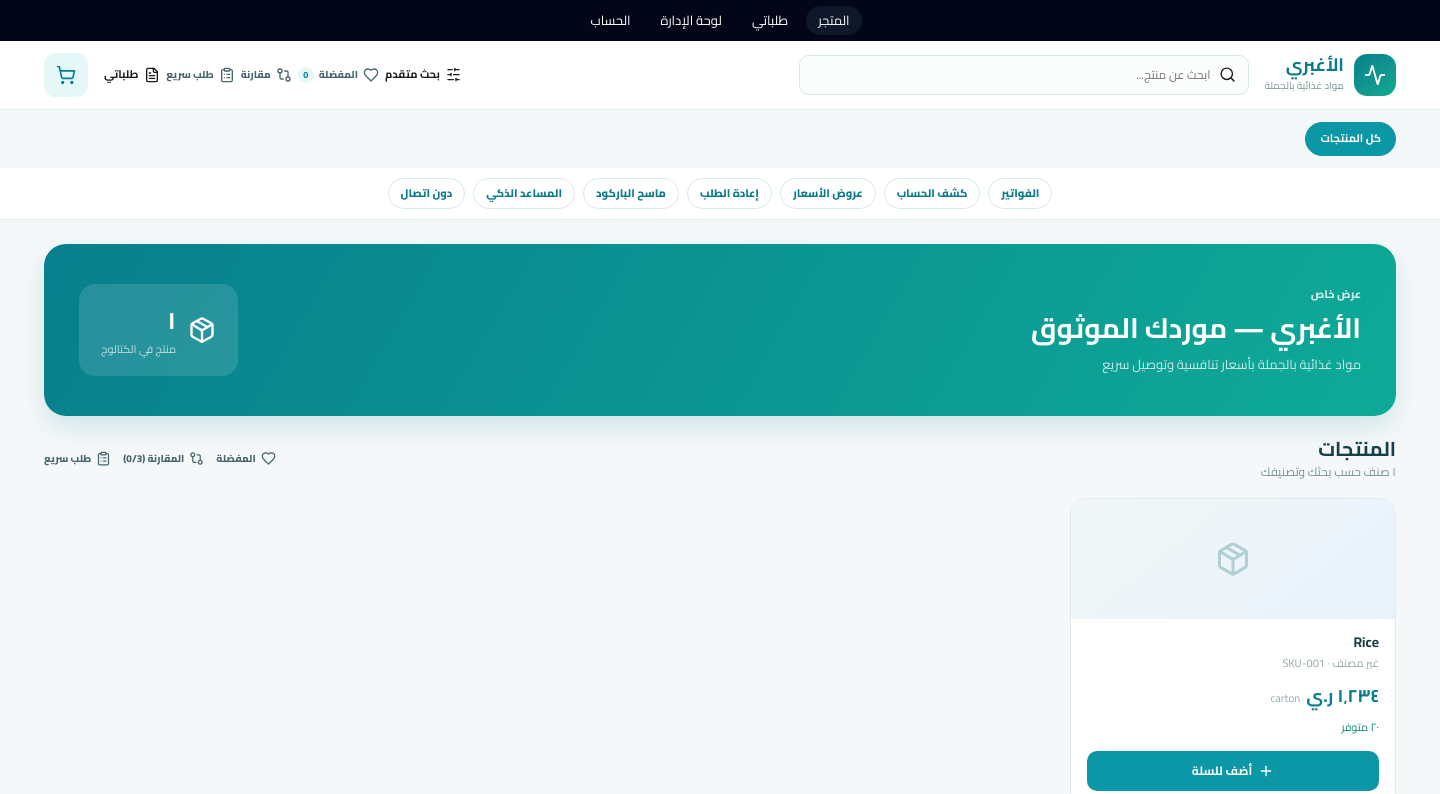
customer price visibility UI acceptance › shows product-card and direct product-detail price according to the catalog setting (true)
Check: the element with class "sf-product-price" is shown, box 1270,679 -> 1379,712
What coordinates should you click on to do the following:
click the button with class "sf-product-open"
I would click on:
 (1356, 663)
Its box is 1071,619 -> 1395,751.
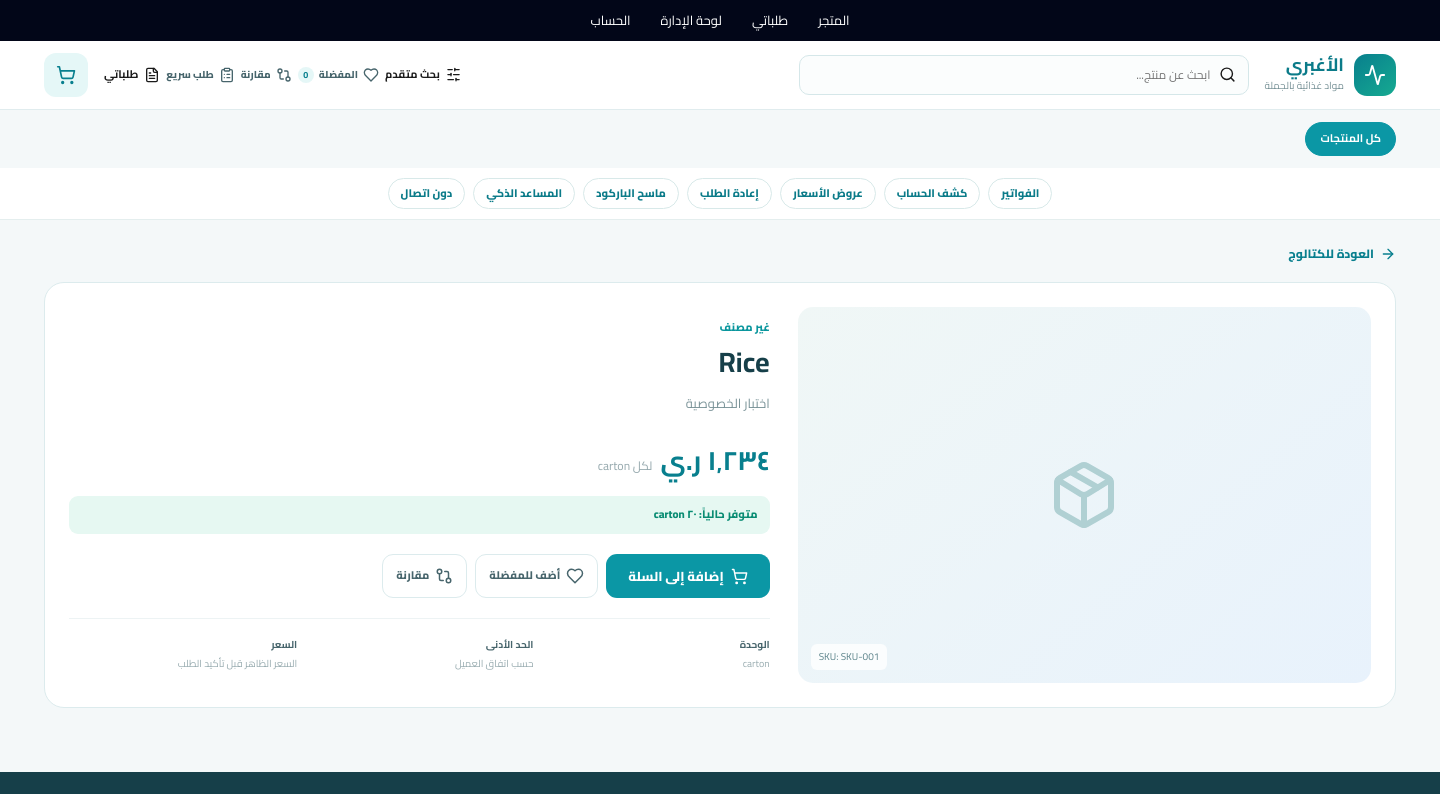
Check: the element with class "sf-detail-price" is shown, box 598,435 -> 770,485
